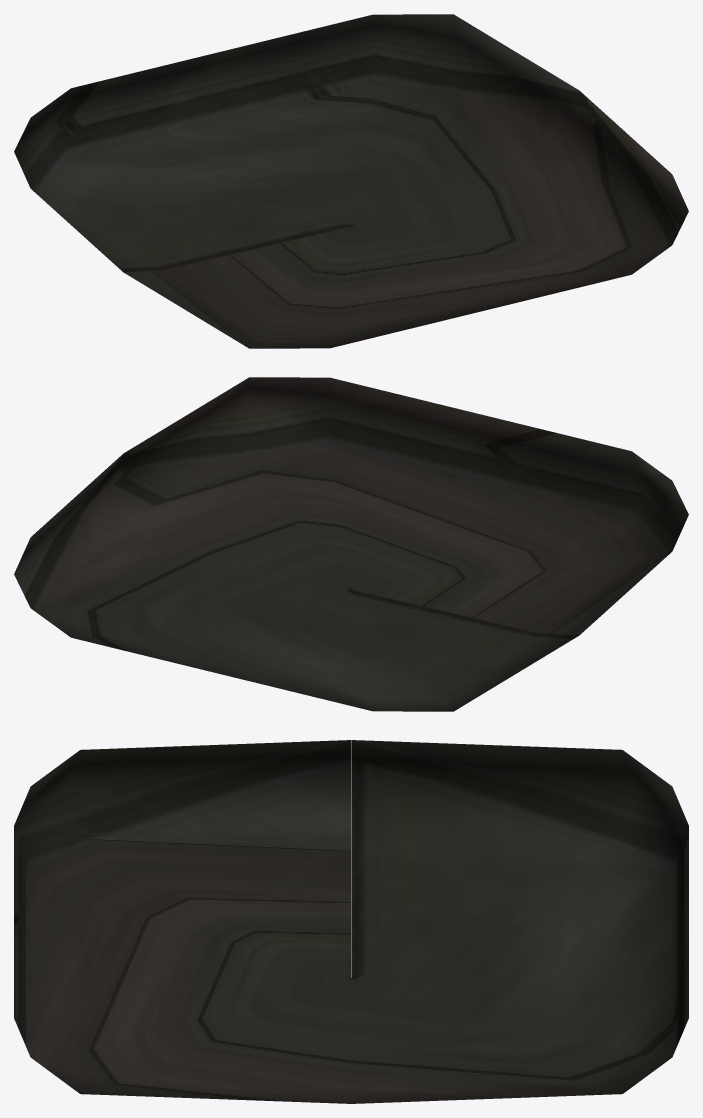
Rendered from mn_hoststone.glb.
3 views of the same model, one above another, from view 1: azimuth 30°, elevation 25°; view 2: azimuth 150°, elevation 25°; view 3: azimuth 270°, elevation 25° (orthographic). The views are drawn at different scales.
Parts seen in each view (by area): view 1: mn_hoststone; view 2: mn_hoststone; view 3: mn_hoststone.
Part boxes in pixels (box(x1,y1,x2,y2)): mn_hoststone: box(14, 14, 688, 348); mn_hoststone: box(14, 377, 688, 711); mn_hoststone: box(14, 740, 688, 1103).
Size of the model in its own units: 1 by 0.18 by 0.9826.
1 material, 1 textured.
